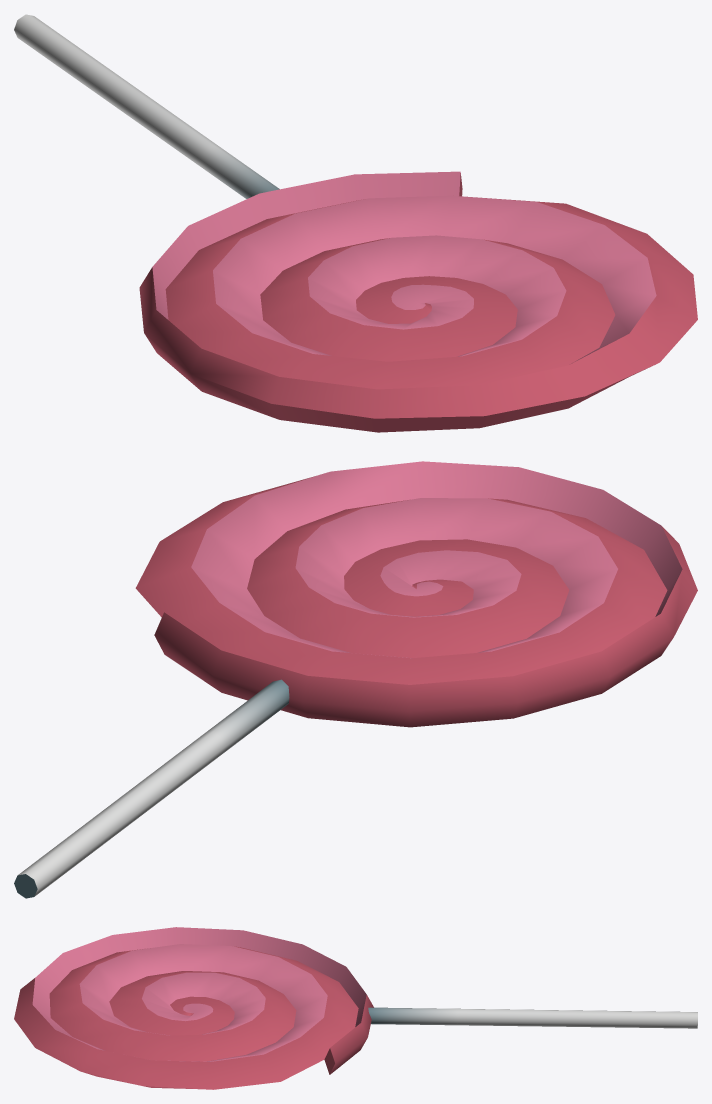
3 views of the same model, one above another, from view 1: azimuth 30°, elevation 25°; view 2: azimuth 150°, elevation 25°; view 3: azimuth 270°, elevation 25° (orthographic). The views are drawn at different scales.
Visible parts, largest first — view 1: alt4.005; view 2: alt4.005; view 3: alt4.005.
Boxes of the visible parts, <box> form: alt4.005: <box>14,14,697,432</box>; alt4.005: <box>14,461,697,898</box>; alt4.005: <box>14,927,697,1089</box>.
Size of the model in its own units: 0.2635 by 0.0259 by 0.5.
